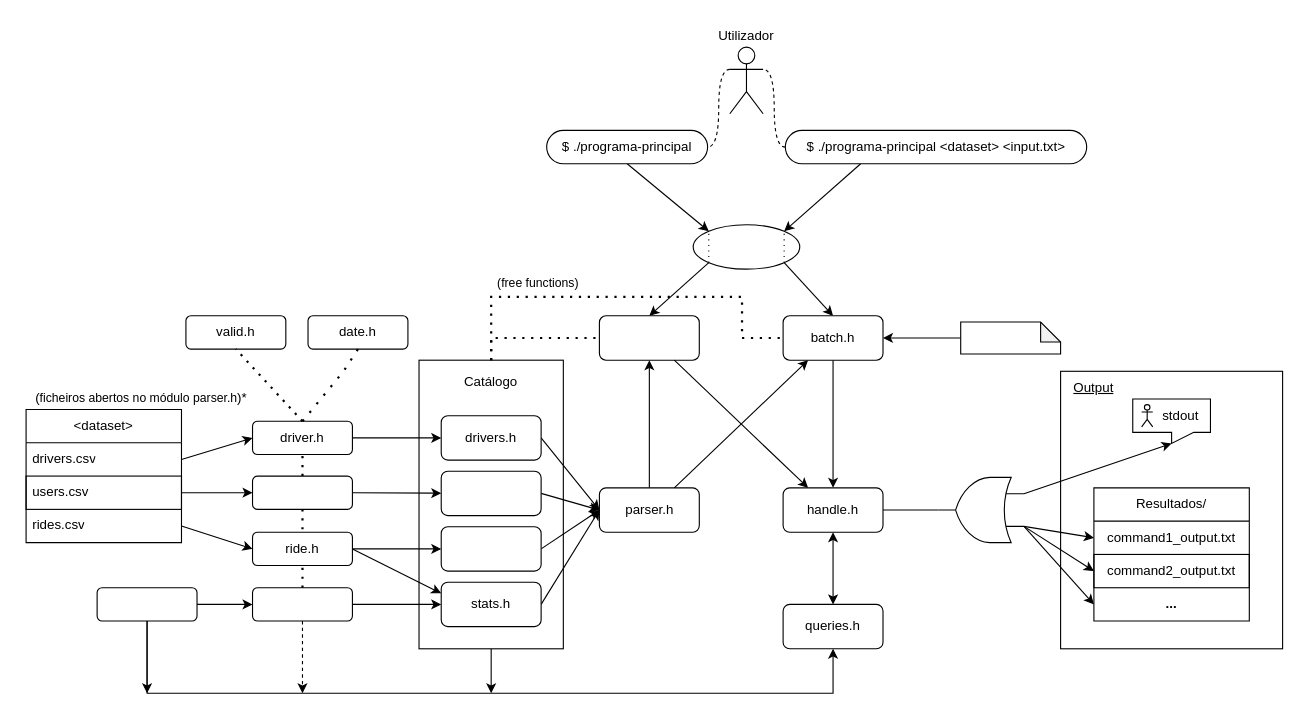
Image size: 1302x722. Some labels were removed from this diagram. The shapes that lost their labels are listed below. From the top down, each one's centre as x and y in pixels, then its label:
(x=746, y=246): main.c
(x=648, y=337): interact.h
(x=1010, y=337): <input.txt>
(x=301, y=492): user.h
(x=490, y=493): users.h
(x=980, y=509): mode
(x=490, y=548): rides.h
(x=146, y=604): city.h
(x=301, y=604): cities.h
